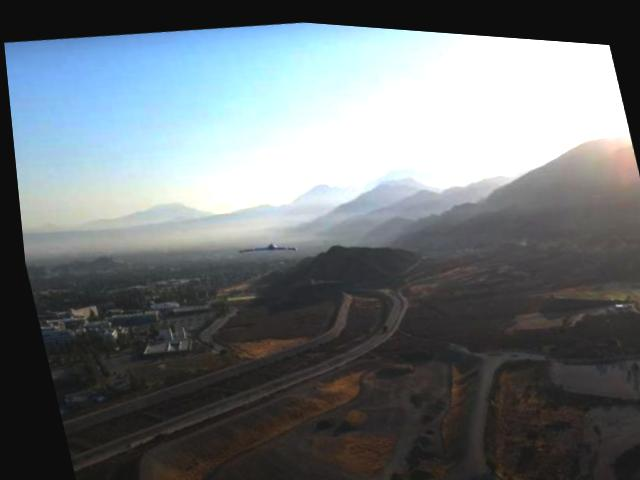iha: (230, 228, 297, 261)
